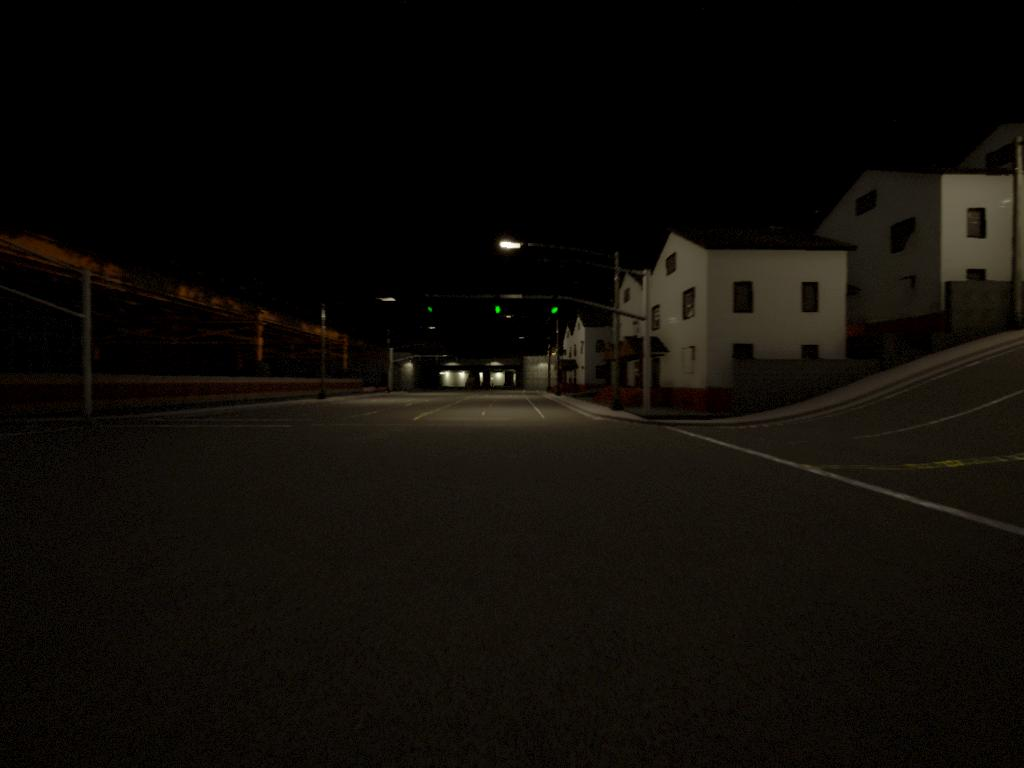traffic_light: (494, 299, 505, 319), (552, 299, 562, 320), (427, 300, 437, 318)
